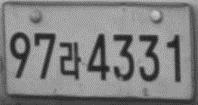1: (165, 32, 182, 82)
3: (138, 33, 160, 82), (112, 33, 134, 81)
4: (86, 32, 111, 81)
7: (32, 32, 56, 79)
9: (8, 31, 30, 79)
라: (59, 41, 82, 80)
